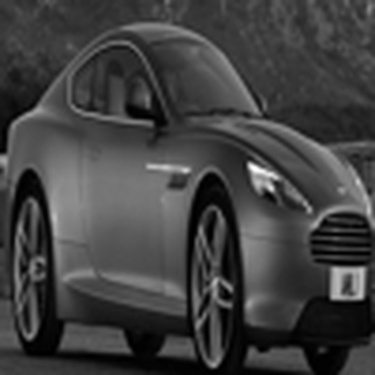car: (4, 20, 369, 373)
